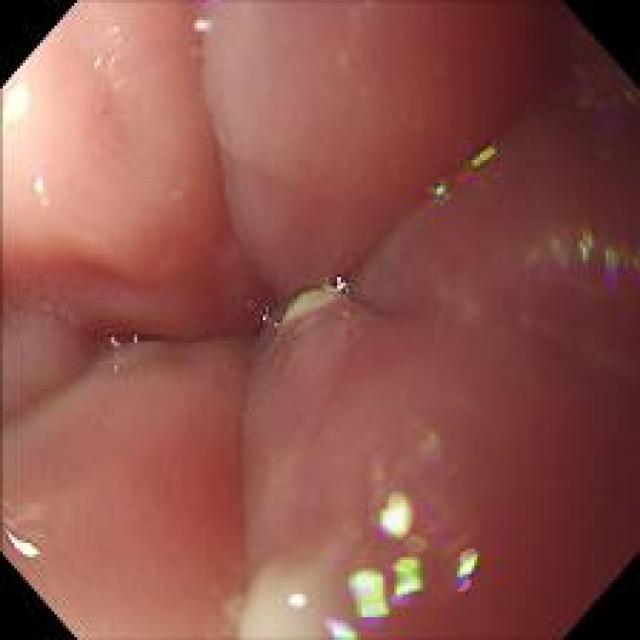bubbles: (246, 295, 278, 329), (324, 268, 350, 301)
color misalignment: (321, 549, 492, 636), (561, 58, 630, 160), (95, 324, 146, 371), (526, 232, 572, 275), (372, 490, 414, 536), (182, 1, 220, 42), (466, 140, 504, 175), (429, 175, 458, 210), (571, 225, 595, 260), (600, 241, 621, 279), (250, 299, 276, 329), (330, 276, 349, 300)
specularity: (368, 488, 416, 538), (0, 82, 30, 125), (6, 526, 41, 562), (30, 162, 51, 215)
